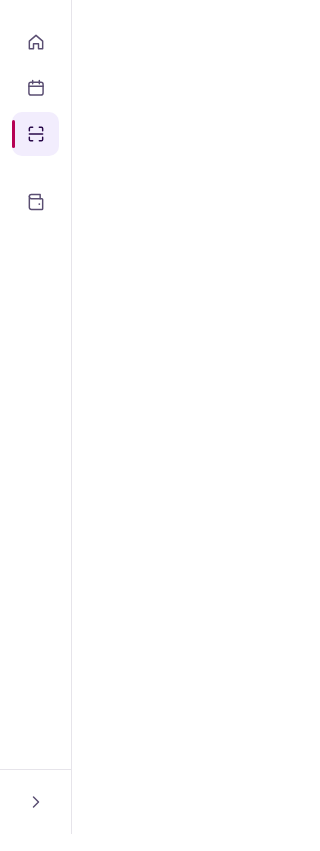
Test: the rail folded to icons, on a desk › folds by itself at the door, without changing what is remembered
This screenshot has width=320, height=851.
Click the button named "Expand the menu": (36, 802) [12,782,59,822]
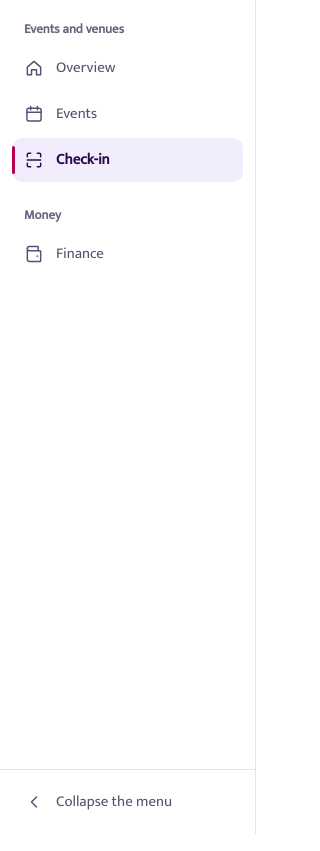
expect the button "Collapse the menu" is shown: met, box [12,782,243,822]
